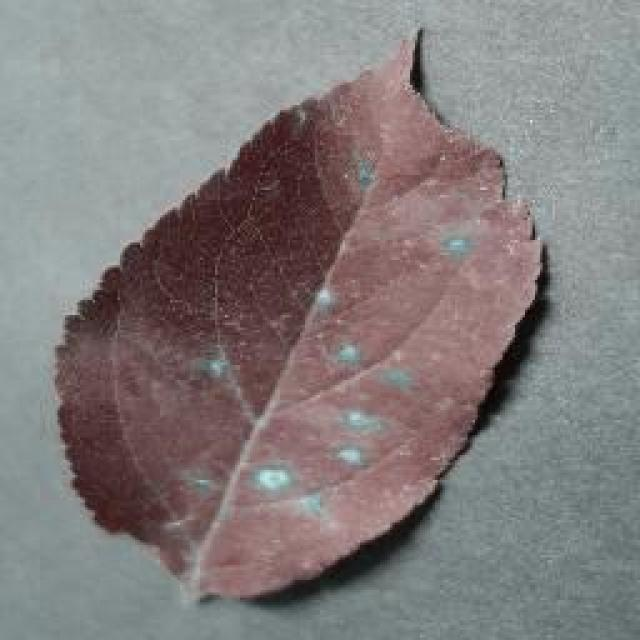apple rust disease: (50, 25, 545, 603)
